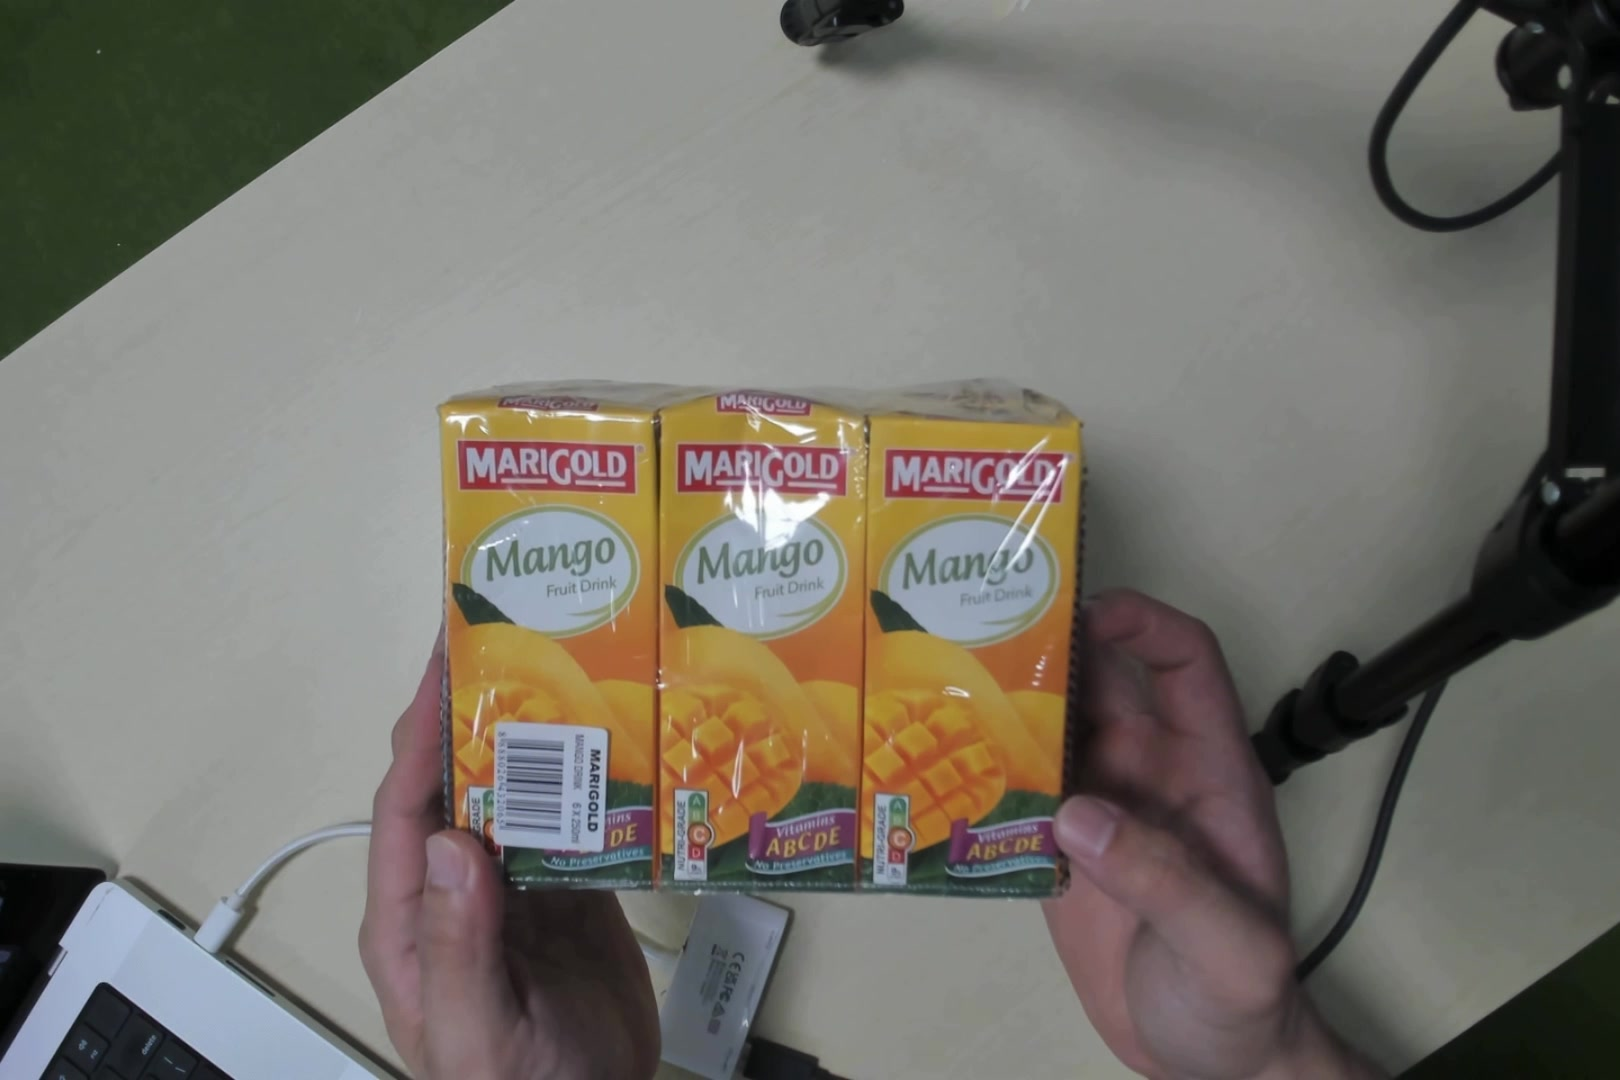FruitJuice_700-799g_Halal_NonHealthy: (417, 342, 1056, 920)
